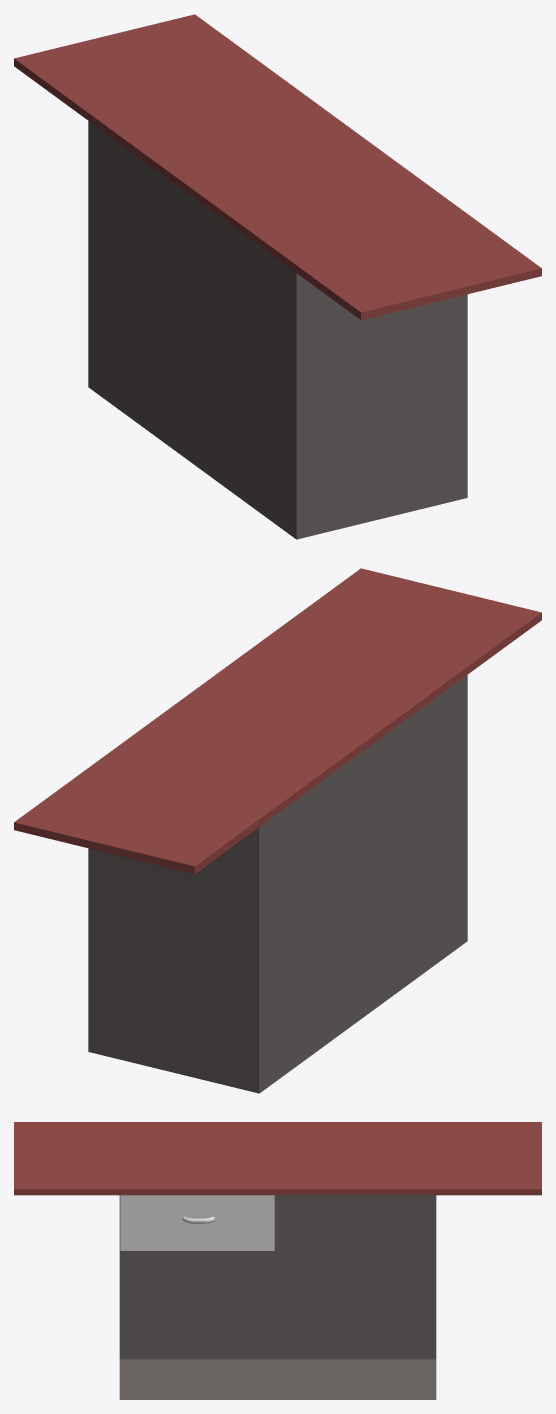
The model's file is DeskWithDrawer.fbx.
3 views of the same model, one above another, from view 1: azimuth 30°, elevation 25°; view 2: azimuth 150°, elevation 25°; view 3: azimuth 270°, elevation 25° (orthographic). The views are drawn at different scales.
Visible parts, largest first — view 1: 环体.001; view 2: 环体.001; view 3: 环体.001.
Part boxes in pixels (x1,y1,x2,y2): 环体.001: (14,14,541,539); 环体.001: (14,568,541,1093); 环体.001: (14,1122,541,1399).
Size of the model in its own units: 394 by 574 by 1292.
